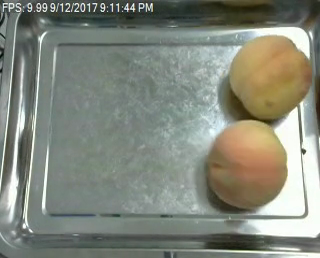Peach: (206, 118, 288, 209), (227, 34, 312, 117)
